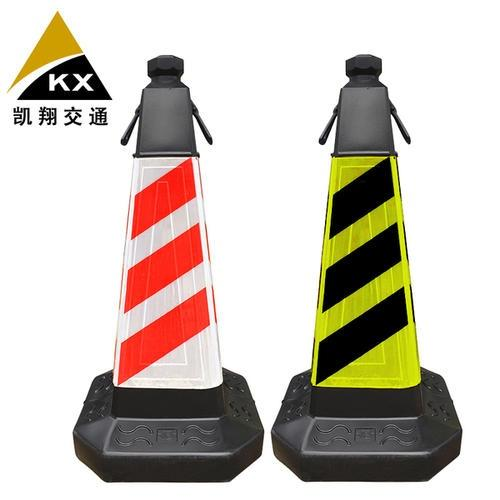cone_barrel: (262, 53, 460, 468), (66, 49, 261, 463), (15, 4, 116, 132)
